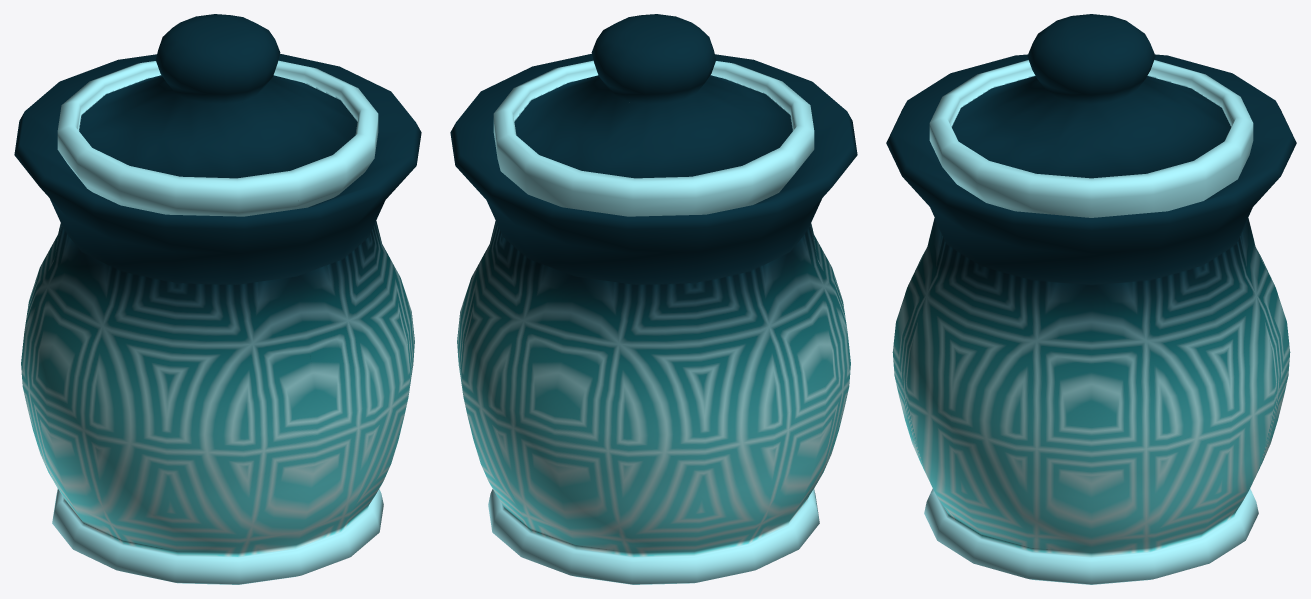
The model's file is Vase.fbx.
The picture shows the model from 3 angles, left to right: view 1: azimuth 30°, elevation 25°; view 2: azimuth 150°, elevation 25°; view 3: azimuth 270°, elevation 25°; orthographic projection.
Parts seen in each view (by area): view 1: Vase 1.001; view 2: Vase 1.001; view 3: Vase 1.001.
Part boxes in pixels (box(x1,y1,x2,y2)): Vase 1.001: box(14, 14, 421, 584); Vase 1.001: box(450, 14, 857, 584); Vase 1.001: box(886, 14, 1296, 584).
Bounding box in the file's own units: 290 × 384 × 290.
1 material, 1 textured.
